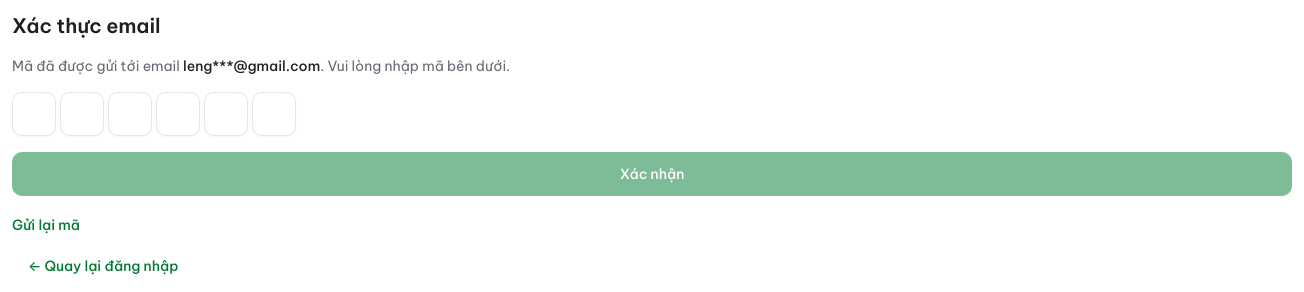
it: EmailOtpStep › shows a pending-review state when the code was correct but the org is pending
Type "4" into the field named "Chữ số 1 trong mã OTP".
click(34, 114); type("4")  # box left=12, top=92, right=56, bottom=136
Type "8" into the field named "Chữ số 2 trong mã OTP".
click(82, 114); type("8")  # box left=60, top=92, right=104, bottom=136
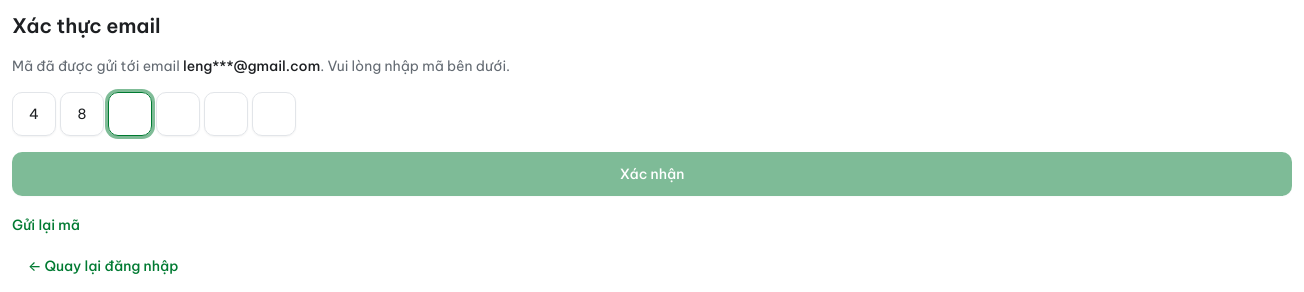
Type "2" into the field named "Chữ số 3 trong mã OTP".
click(130, 114); type("2")  # box left=108, top=92, right=152, bottom=136
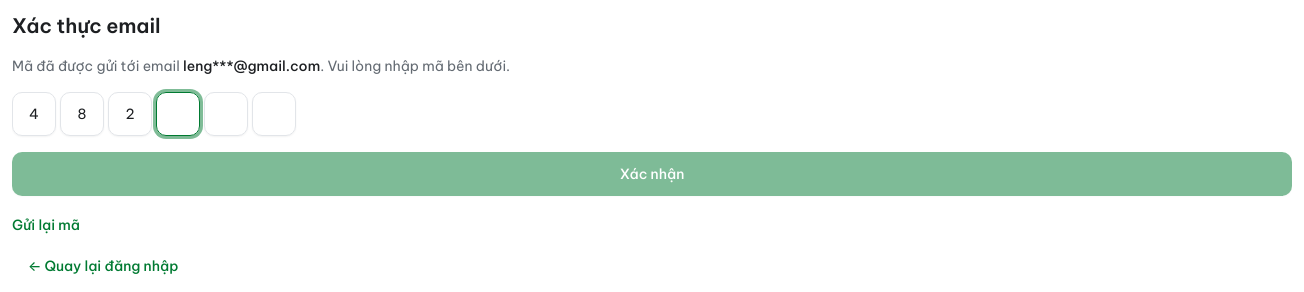
Type "9" into the field named "Chữ số 4 trong mã OTP".
click(178, 114); type("9")  # box left=156, top=92, right=200, bottom=136
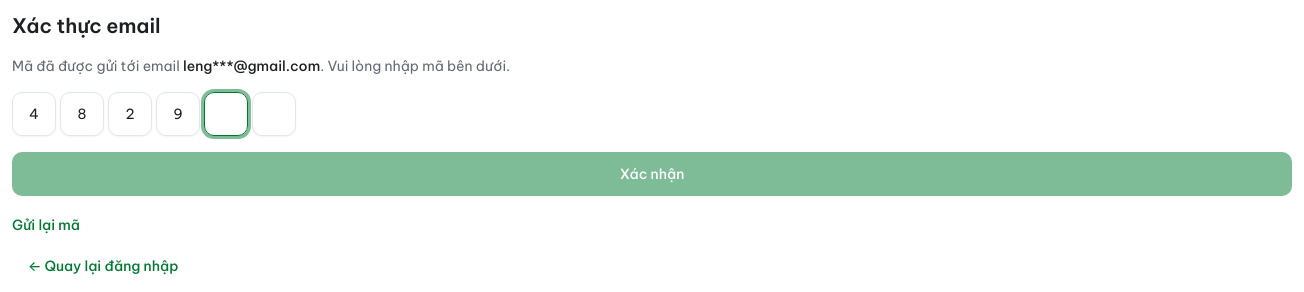
Type "1" into the field named "Chữ số 5 trong mã OTP".
click(226, 114); type("1")  # box left=204, top=92, right=248, bottom=136
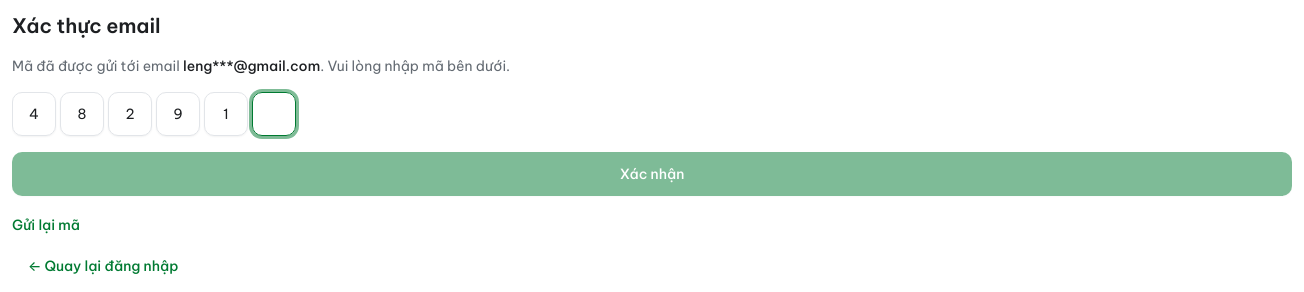
Type "3" into the field named "Chữ số 6 trong mã OTP".
click(274, 114); type("3")  # box left=252, top=92, right=296, bottom=136
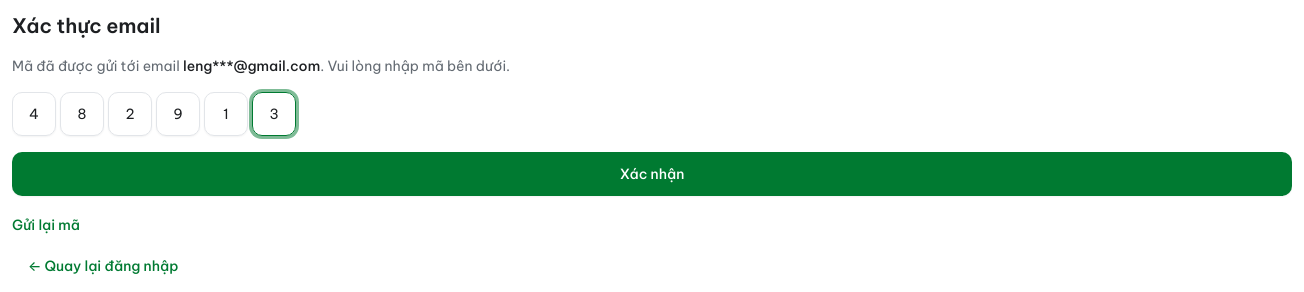
Click the button "Xác nhận".
click(652, 174)  # box left=12, top=152, right=1292, bottom=196
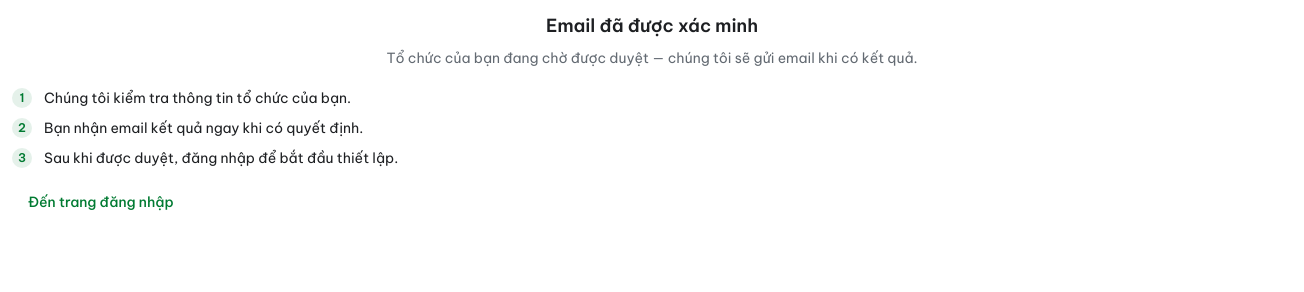
Now the heading "Email đã được xác minh" is shown, box left=546, top=14, right=758, bottom=37
Now the text "Chúng tôi kiểm tra thông tin tổ chức của bạn." is shown, box left=44, top=88, right=351, bottom=108
Now the text "Sau khi được duyệt, đăng nhập để bắt đầu thiết lập." is shown, box left=44, top=148, right=398, bottom=168
